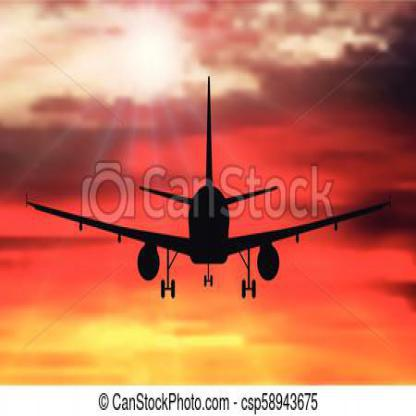CIV_Plane: (19, 69, 403, 307)
